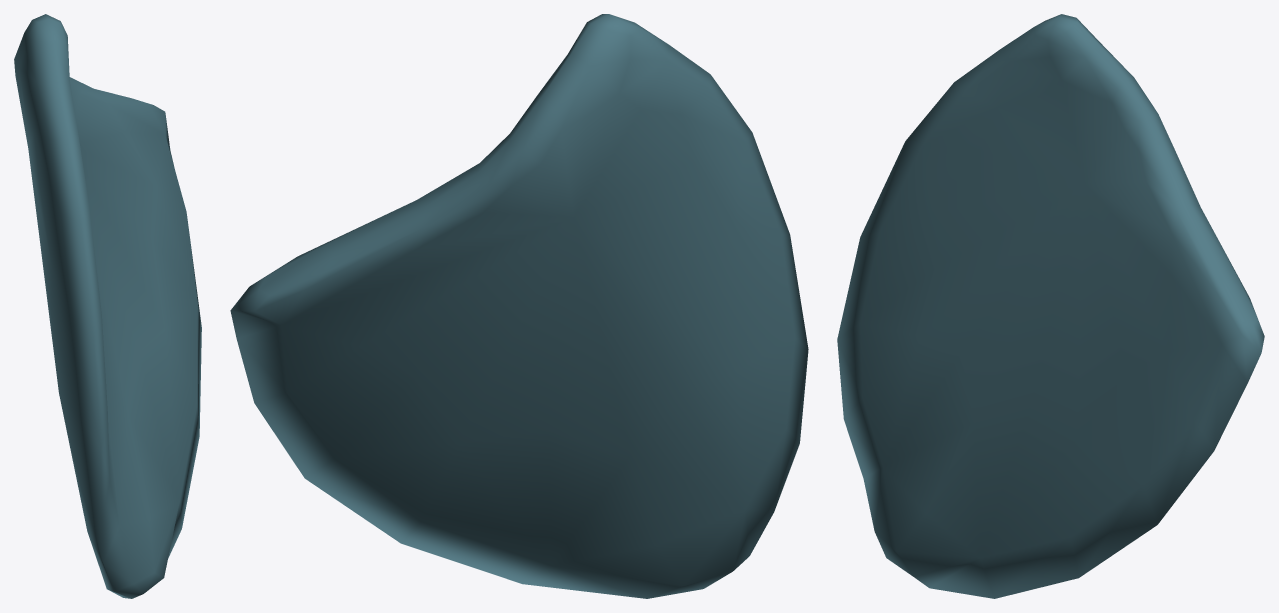
Rendered from Distal_phalanx_hand_1st_finger_right_001.glb.
The picture shows the model from 3 angles, left to right: view 1: azimuth 30°, elevation 25°; view 2: azimuth 150°, elevation 25°; view 3: azimuth 270°, elevation 25°; orthographic projection. The views are drawn at different scales.
Visible parts, largest first — view 1: Distal_phalanx_of_hand-1st_finger.r.002_Generated_Mesh_From_; view 2: Distal_phalanx_of_hand-1st_finger.r.002_Generated_Mesh_From_; view 3: Distal_phalanx_of_hand-1st_finger.r.002_Generated_Mesh_From_.
Part boxes in pixels (left/top/right/bottom): Distal_phalanx_of_hand-1st_finger.r.002_Generated_Mesh_From_: left=14, top=14, right=201, bottom=598; Distal_phalanx_of_hand-1st_finger.r.002_Generated_Mesh_From_: left=230, top=14, right=808, bottom=598; Distal_phalanx_of_hand-1st_finger.r.002_Generated_Mesh_From_: left=837, top=14, right=1264, bottom=598.
Bounding box in the file's own units: 0.0035 × 0.00644 × 0.00455.
